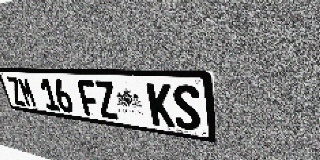1: (37, 78, 60, 111)
6: (51, 79, 75, 113)
F: (76, 80, 101, 117)
K: (146, 83, 175, 128)
M: (16, 77, 38, 108)
S: (171, 84, 201, 132)
Z: (93, 81, 120, 120), (6, 76, 27, 106)
